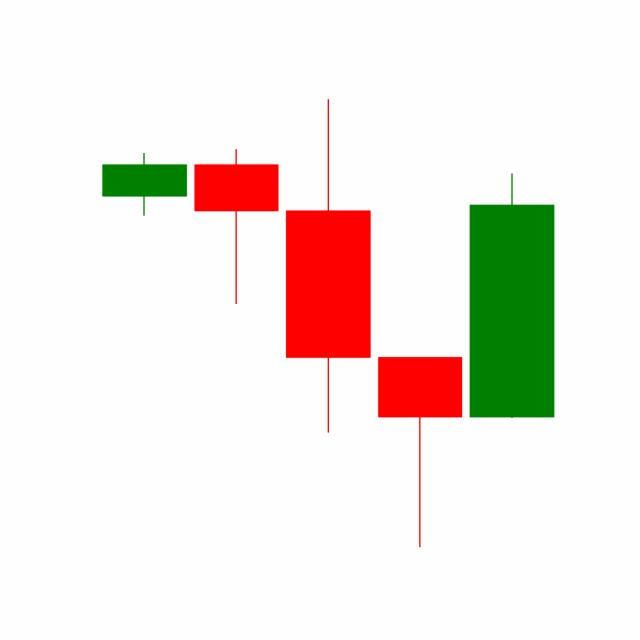Hammer: (373, 354, 467, 549)
